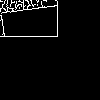K: (25, 24, 70, 74)
